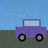vehicle: (15, 19, 46, 41)
